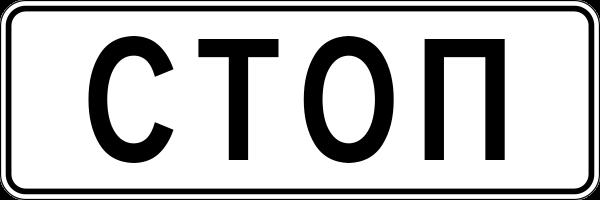Stop: (51, 28, 553, 177)
